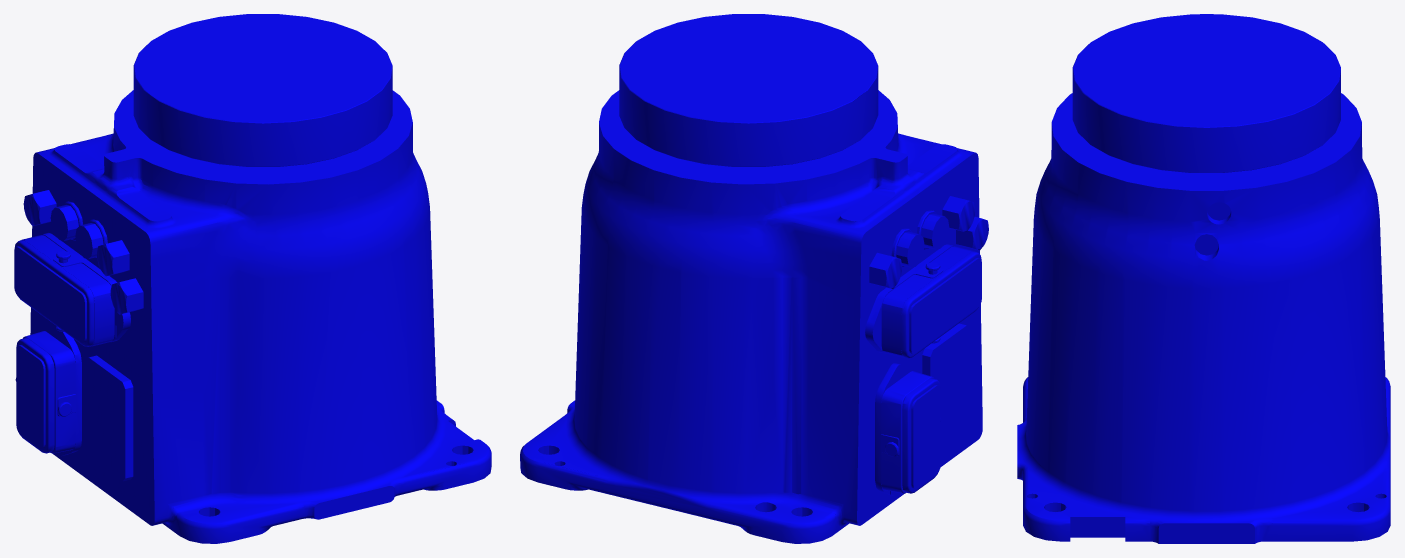
File: MH5L_BASE_AXIS.dae
The picture shows the model from 3 angles, left to right: view 1: azimuth 30°, elevation 25°; view 2: azimuth 150°, elevation 25°; view 3: azimuth 270°, elevation 25°; orthographic projection. The views are drawn at different scales.
Visible parts, largest first — view 1: node; view 2: node; view 3: node.
Boxes of the visible parts, x1=… form: node: x1=14, y1=14, x2=491, y2=543; node: x1=520, y1=14, x2=988, y2=543; node: x1=1017, y1=14, x2=1390, y2=543.
Size of the model in its own units: 0.23 by 0.197 by 0.229.
